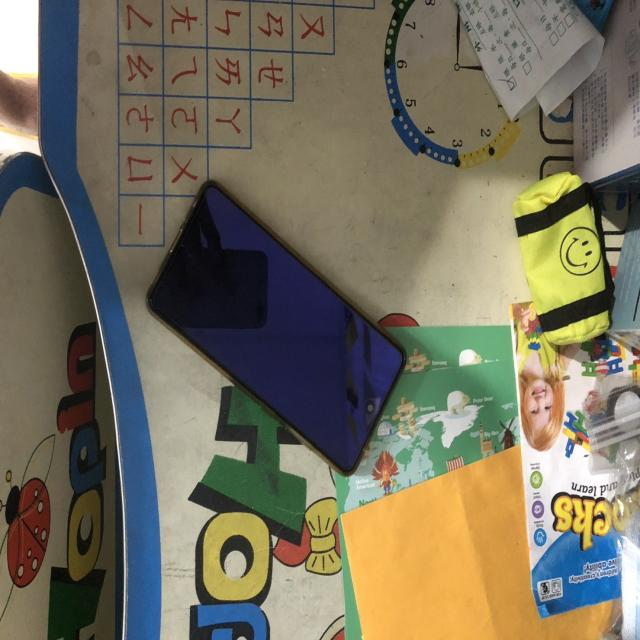phone: (146, 180, 406, 475)
